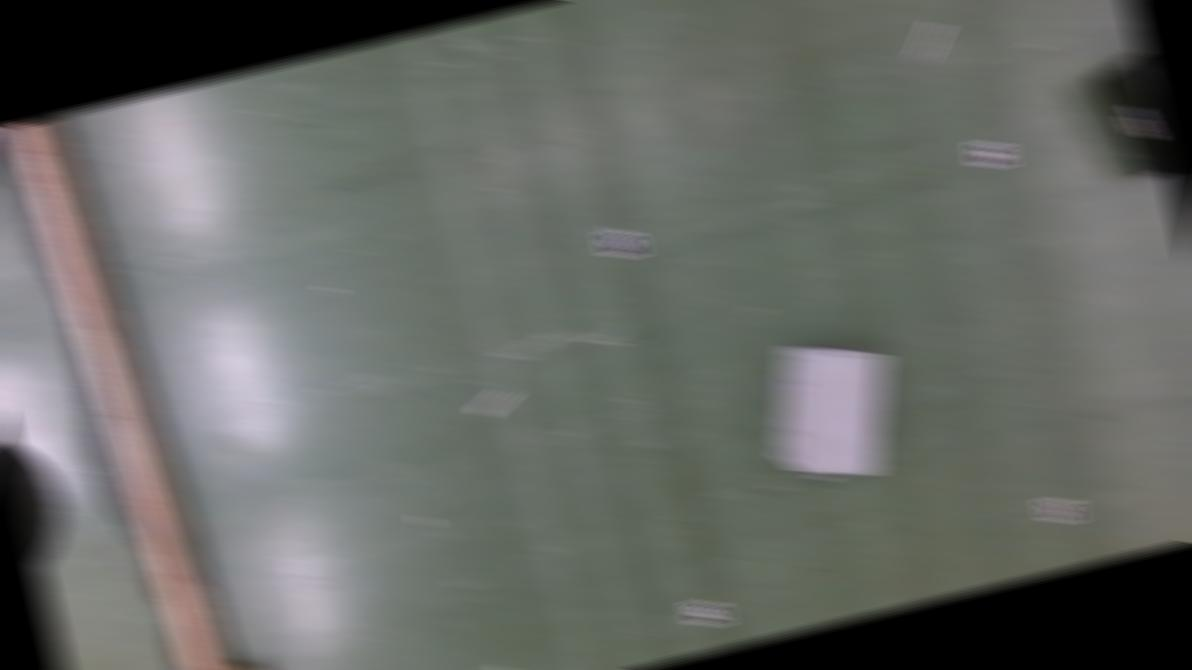probes: (906, 20, 953, 63), (471, 388, 520, 418)
rako: (750, 320, 918, 494), (1083, 39, 1176, 186)
